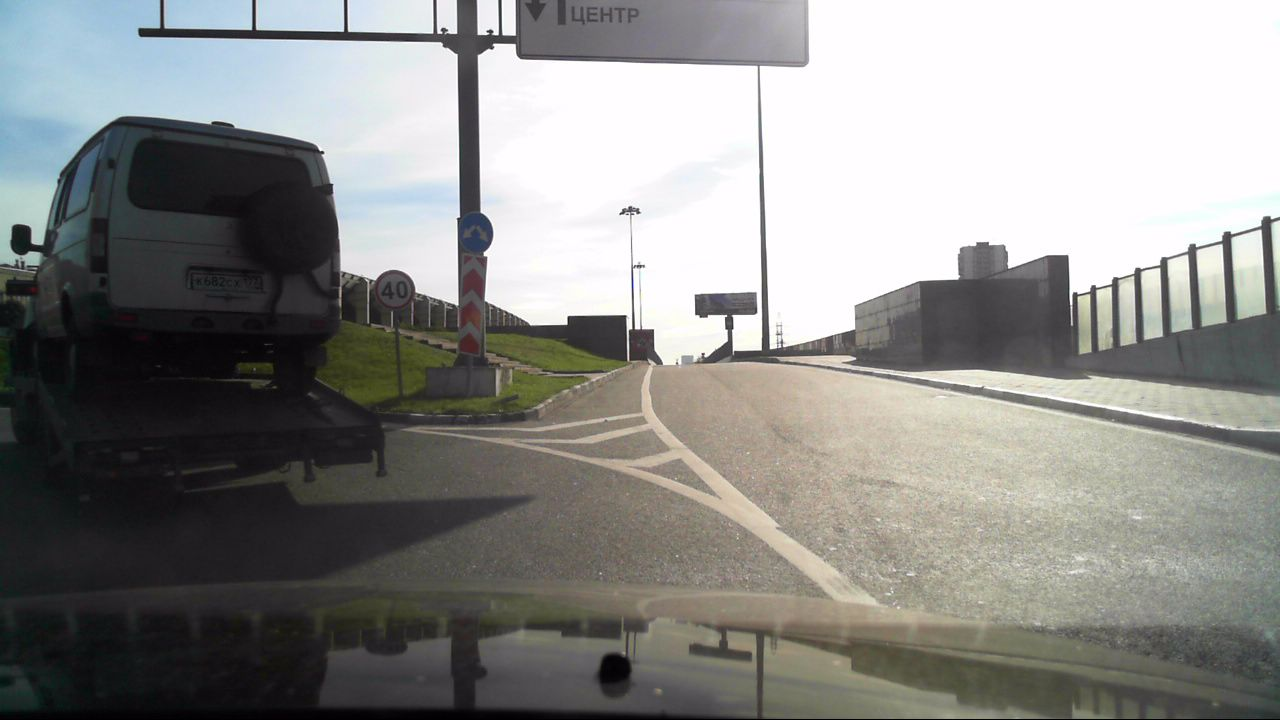speed_warning_40: (374, 269, 416, 312)
